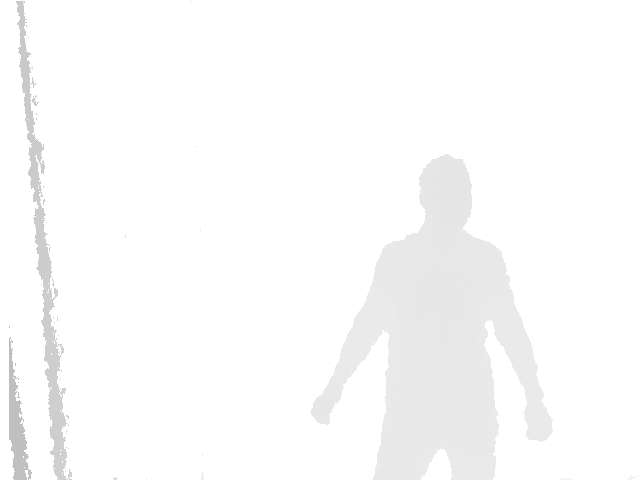head: (417, 154, 473, 231)
person: (310, 154, 553, 480)
